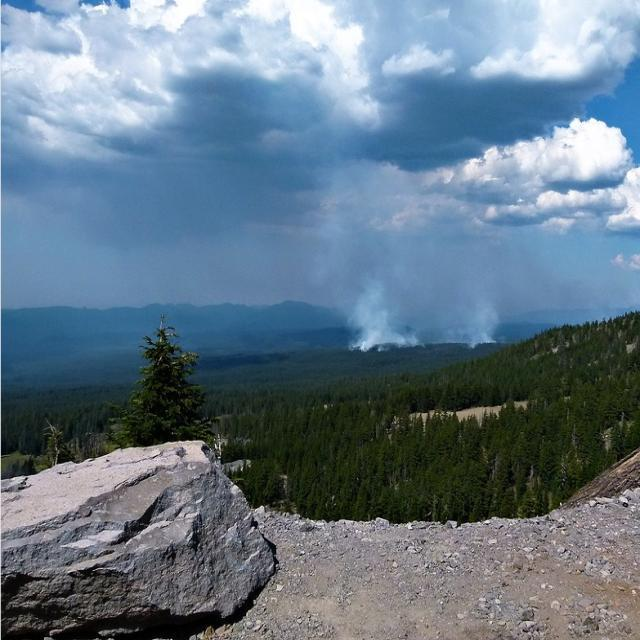Smoke: (348, 289, 426, 352), (439, 307, 496, 349)
